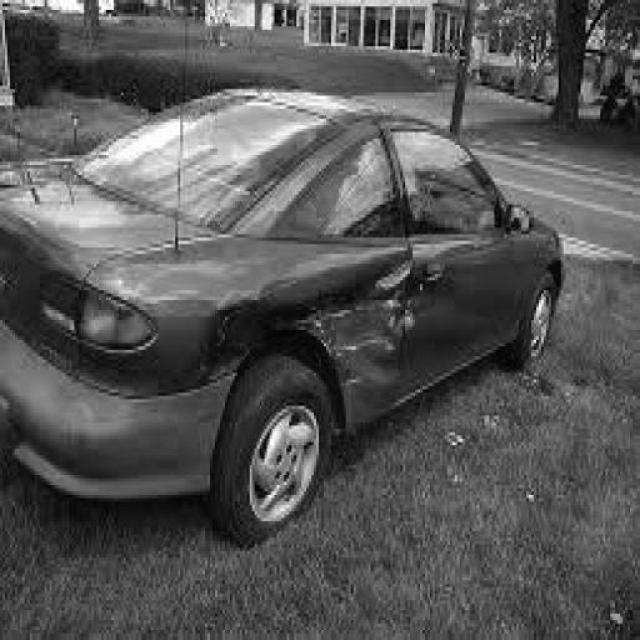car damage: (127, 240, 418, 448)
